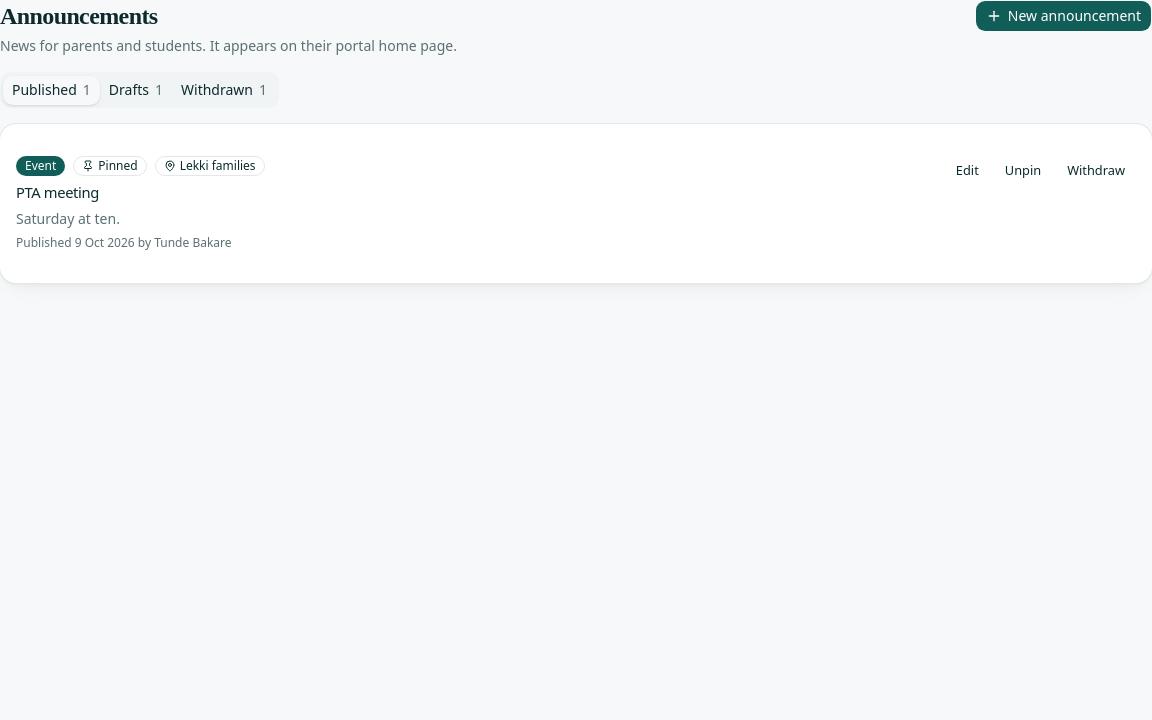
Test: AnnouncementsPage editor › counts the message and stops the title at 80
Click the button "New announcement": (1063, 16) [975, 0, 1151, 32]
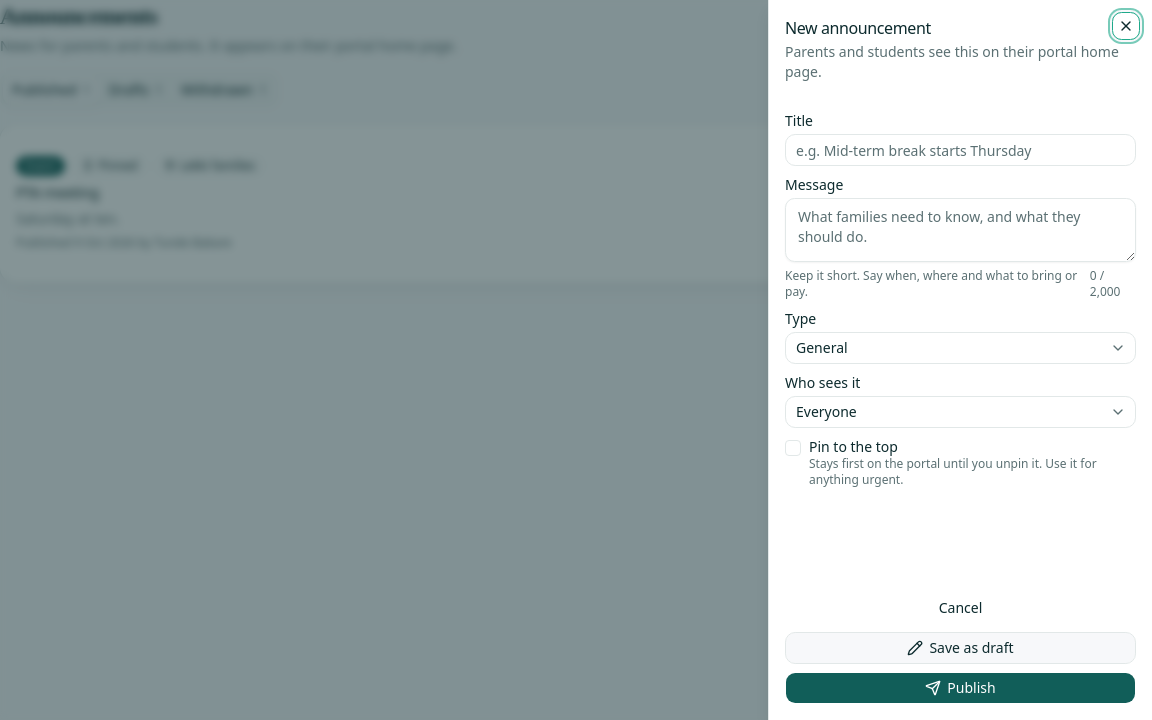
In the text box labelled "Message": (960, 230) [785, 198, 1136, 262], type "Bring water"
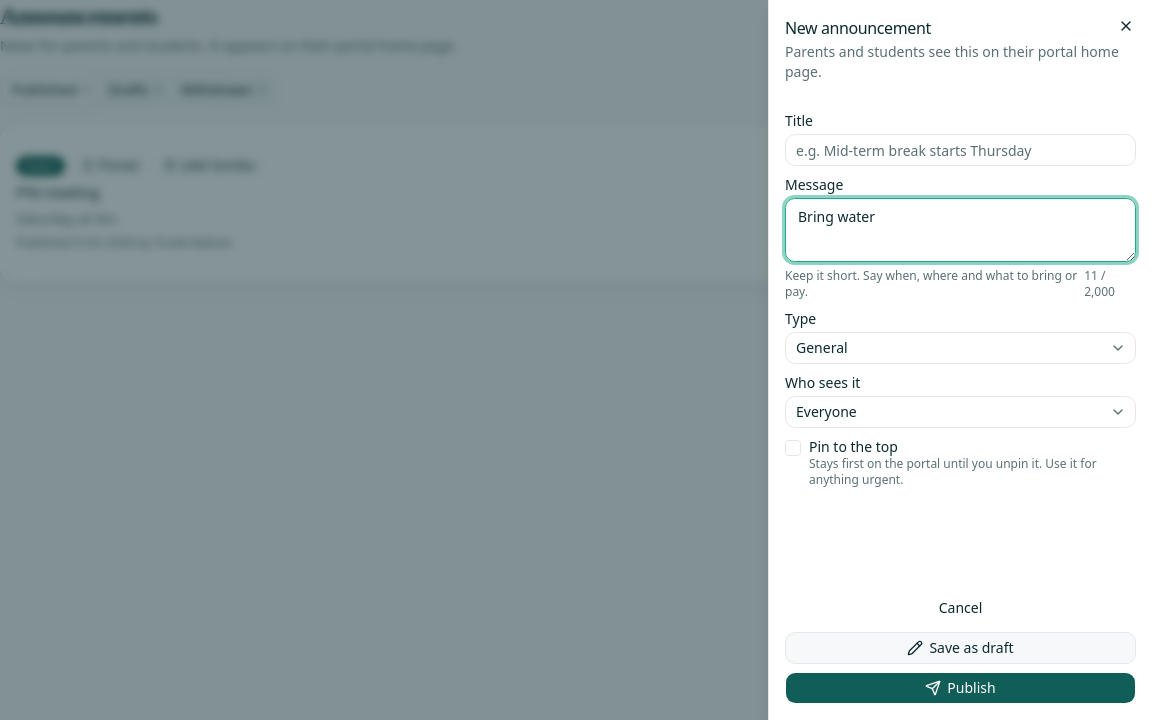
expect the text "11 / 2,000" is shown: met, box [1084, 267, 1115, 300]
